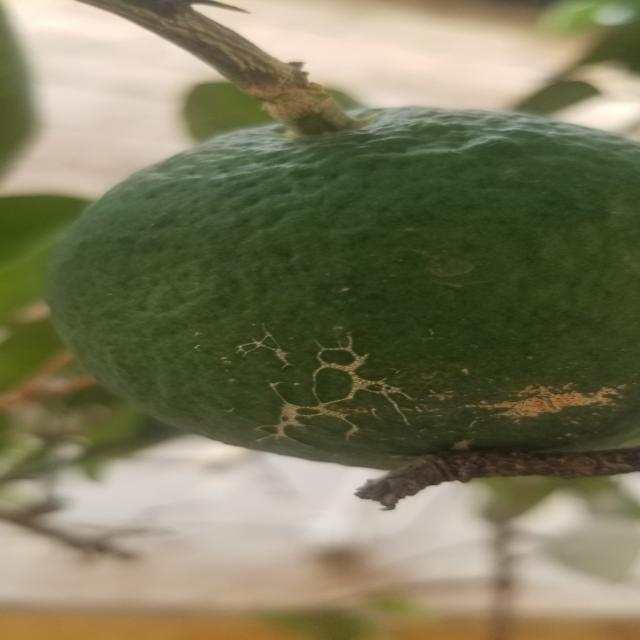Unripe: (45, 95, 640, 477)
